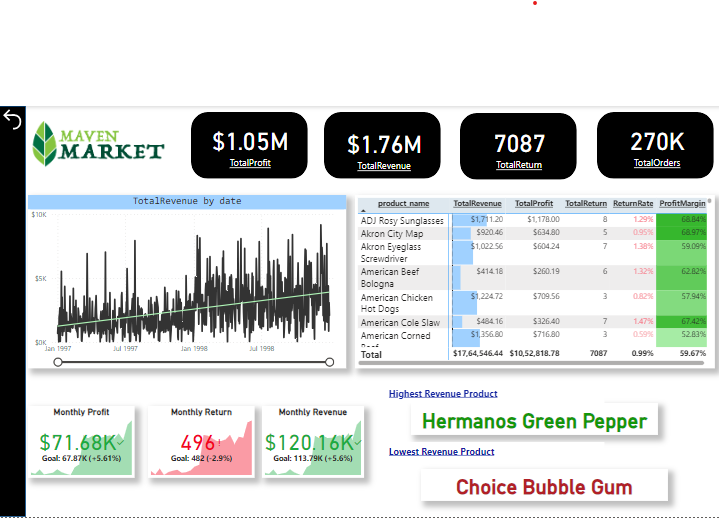

The page's visual inventory and layout, read from the dashboard file:
{"tool":"powerbi","page":{"name":"Main","canvas":[1280,720],"ordinal":0},"visuals":[{"type":"shape","box":[0,0,46.8,720],"z":0},{"type":"image","box":[46.8,0,251.7,131.7],"z":1000},{"type":"shape","box":[336.6,10.2,204.9,117.1],"z":2000},{"type":"card","fields":{"Values":["MeasureTable.TotalProfit"]},"box":[341,16.1,200.5,103.9],"z":3000},{"type":"shape","box":[570.5,10,204.9,117.1],"z":4000},{"type":"card","fields":{"Values":["MeasureTable.TotalRevenue"]},"box":[575.1,20.5,200.5,103.9],"z":5000},{"type":"shape","box":[807.6,12.9,204.9,117.1],"z":6000},{"type":"card","fields":{"Values":["MeasureTable.TotalReturn"]},"box":[812,18.8,200.5,103.9],"z":7000},{"type":"shape","box":[1049,10,204.9,117.1],"z":8000},{"type":"card","fields":{"Values":["MeasureTable.TotalOrders"]},"box":[1053.4,15.9,200.5,103.9],"z":9000},{"type":"lineChart","fields":{"Y":["MeasureTable.TotalRevenue"],"Category":["Calendar.date"]},"box":[51.2,156.6,557.6,304.4],"z":10000},{"type":"pivotTable","fields":{"Values":["MeasureTable.TotalRevenue","MeasureTable.TotalProfit","MeasureTable.TotalReturn","MeasureTable.ReturnRate","MeasureTable.ProfitMargin"],"Rows":["Products.product_name"]},"box":[624.9,156.6,630.7,304.4],"z":11000},{"type":"kpi","title":"Monthly Profit","fields":{"TrendLine":["Calendar.Start of Month"],"Indicator":["MeasureTable.TotalProfit"],"Goal":["MeasureTable.LastMonthProfit"]},"box":[51.2,525.4,187.3,125.9],"z":12000},{"type":"kpi","title":"Monthly Return","fields":{"TrendLine":["Calendar.Start of Month"],"Indicator":["MeasureTable.TotalReturn"],"Goal":["MeasureTable.LastMonthReturns"]},"box":[260.5,525.4,187.3,125.9],"z":13000},{"type":"kpi","title":"Monthly Revenue","fields":{"Indicator":["MeasureTable.TotalRevenue"],"Goal":["MeasureTable.LastMonthRevenue"],"TrendLine":["Calendar.Start of Month"]},"box":[461,525.4,178.5,125.9],"z":14000},{"type":"card","fields":{"Values":["Products.m_product_name"]},"box":[722.9,521,433.2,55.6],"z":15000},{"type":"textbox","box":[679,487.3,383.4,33.7],"z":16000},{"type":"card","fields":{"Values":["Products.m_product_name"]},"box":[740.5,636.6,433.2,55.6],"z":17000},{"type":"textbox","box":[679,588.3,383.4,33.7],"z":18000},{"type":"actionButton","box":[0,0,46.8,46.8],"z":19000}]}

Visuals, with their boxes on the page's 1280x720 design canvas (x1, y1, x2, y2). These are canvas units, not pixel positions in the 719x518 screenshot, which may show the page scaled, cropped or inside an application window:
shape: [0, 0, 47, 720]
image: [47, 0, 298, 132]
shape: [337, 10, 542, 127]
card - MeasureTable.TotalProfit: [341, 16, 542, 120]
shape: [570, 10, 775, 127]
card - MeasureTable.TotalRevenue: [575, 20, 776, 124]
shape: [808, 13, 1012, 130]
card - MeasureTable.TotalReturn: [812, 19, 1012, 123]
shape: [1049, 10, 1254, 127]
card - MeasureTable.TotalOrders: [1053, 16, 1254, 120]
lineChart - MeasureTable.TotalRevenue x Calendar.date: [51, 157, 609, 461]
pivotTable - MeasureTable.TotalRevenue x MeasureTable.TotalProfit: [625, 157, 1256, 461]
"Monthly Profit" kpi: [51, 525, 238, 651]
"Monthly Return" kpi: [260, 525, 448, 651]
"Monthly Revenue" kpi: [461, 525, 640, 651]
card - Products.m_product_name: [723, 521, 1156, 577]
textbox: [679, 487, 1062, 521]
card - Products.m_product_name: [740, 637, 1174, 692]
textbox: [679, 588, 1062, 622]
actionButton: [0, 0, 47, 47]
